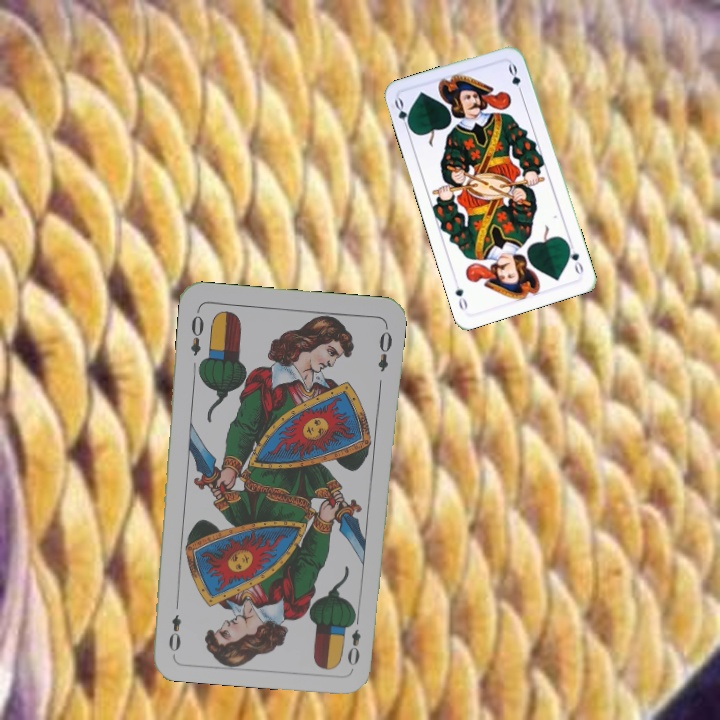EO: (343, 610, 364, 669), (186, 306, 206, 358)
GO: (390, 94, 414, 135), (563, 238, 586, 277)
